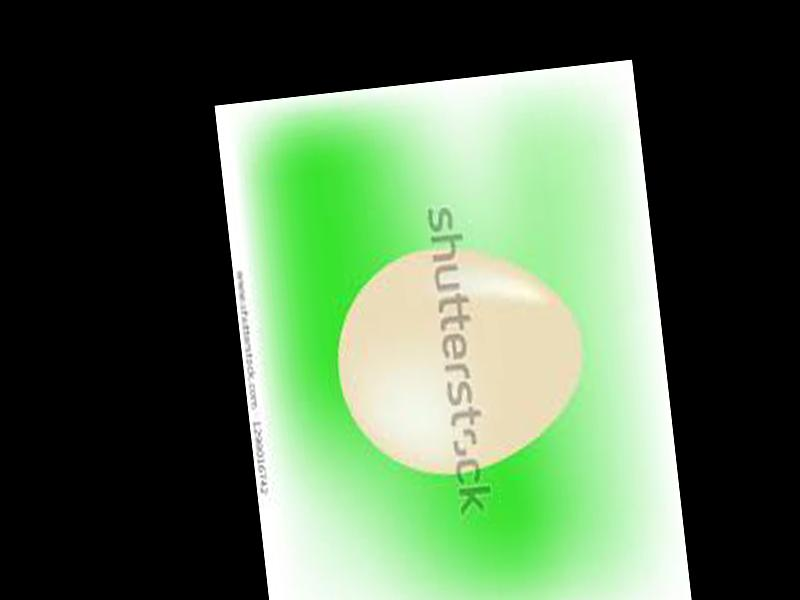Eggs: (327, 235, 594, 485)
